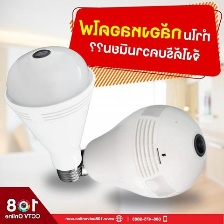light_bulb: (0, 39, 100, 187), (66, 100, 210, 202)
